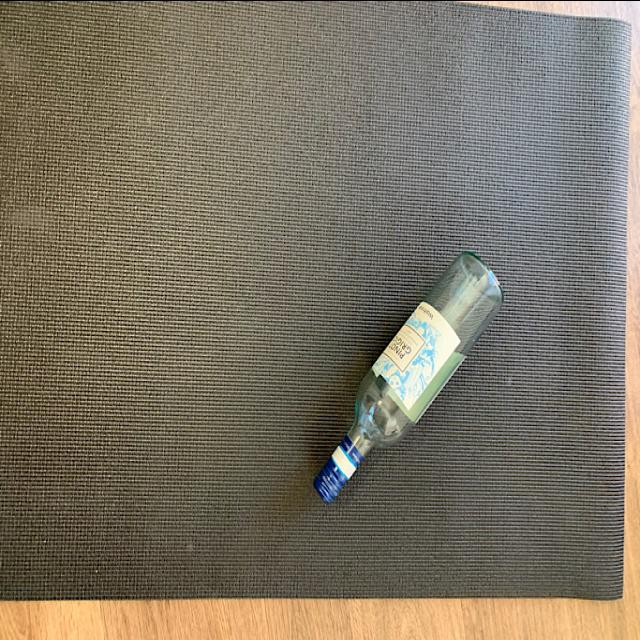Glass Bottle: (310, 240, 510, 504)
